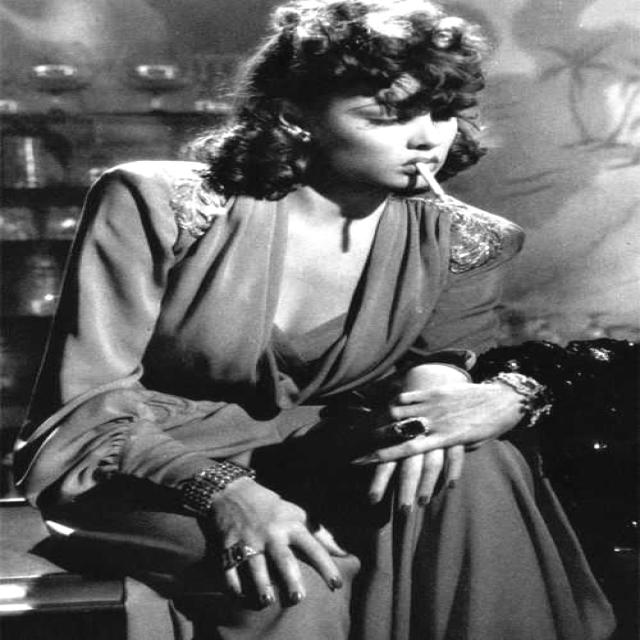Smooking: (406, 152, 473, 218)
